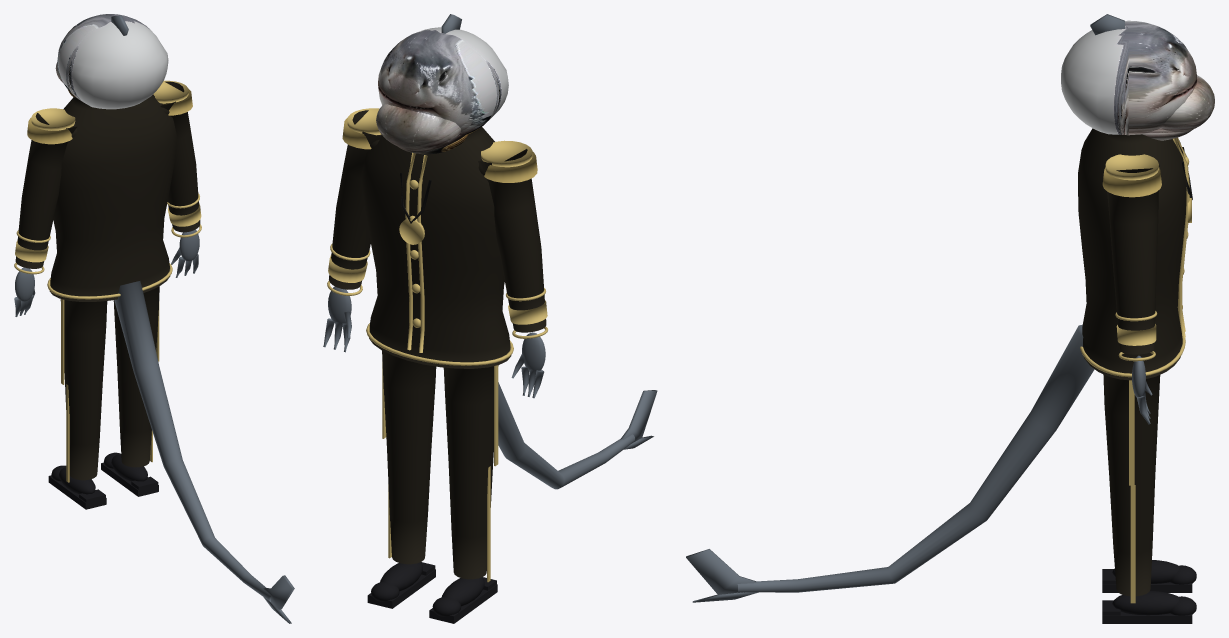
File: guard-v2-blender.glb
The picture shows the model from 3 angles, left to right: view 1: azimuth 30°, elevation 25°; view 2: azimuth 150°, elevation 25°; view 3: azimuth 270°, elevation 25°; orthographic projection. The views are drawn at different scales.
Visible parts, largest first — view 1: Torso, Head, Tail, Trouser.R, Sleeve.R, Trouser.L, Sleeve.L, TrimEpaulette.R, TrimFringe.R, TrimEpaulette.L, TailFin, Shoe.L (+8 smaller); view 2: Torso, Head, Trouser.L, Trouser.R, Sleeve.R, Sleeve.L, Tail, HeadMuzzle, TrimEpaulette.R, TrimFringe.R, TailFin, Shoe.R (+13 smaller); view 3: Torso, Head, Tail, Trouser.L, Sleeve.L, HeadMuzzle, TailFin, Shoe.L, TrimEpaulette.L, TrimFringe.L, ShoeSole.L, TrimBraid.L (+1 smaller).
Boxes of the visible parts, x1,y1,x2,y2 form: Torso: (49,94,176,301); Head: (57,14,168,109); Tail: (114,281,270,601); Trouser.R: (60,299,107,480); Sleeve.R: (15,113,76,268); Trouser.L: (113,286,159,467); Sleeve.L: (160,81,200,232); TrimEpaulette.R: (31,108,75,130); TrimFringe.R: (27,117,73,144); TrimEpaulette.L: (153,80,188,103); TailFin: (263,575,294,609); Shoe.L: (111,454,147,481); Torso: (361,127,511,368); Head: (378,27,508,135); Trouser.L: (382,350,436,564); Trouser.R: (443,365,498,579); Sleeve.R: (478,149,546,332); Sleeve.L: (329,110,381,289); Tail: (498,382,634,489); HeadMuzzle: (376,104,460,151); TrimEpaulette.R: (481,140,532,167); TrimFringe.R: (484,152,537,182); TailFin: (620,390,657,442); Shoe.R: (442,577,484,606); Torso: (1078,128,1186,380); Head: (1061,20,1196,135); Tail: (737,324,1094,592); Trouser.L: (1103,374,1160,596); Sleeve.L: (1105,165,1159,354); HeadMuzzle: (1161,75,1214,132); TailFin: (686,549,756,594); Shoe.L: (1112,591,1179,615); TrimEpaulette.L: (1105,154,1158,180); TrimFringe.L: (1102,167,1161,197); ShoeSole.L: (1102,612,1192,623); TrimBraid.L: (1173,138,1189,338).
Size of the model in its own units: 0.7757 by 1.94 by 1.58.
7 materials, 1 textured.
